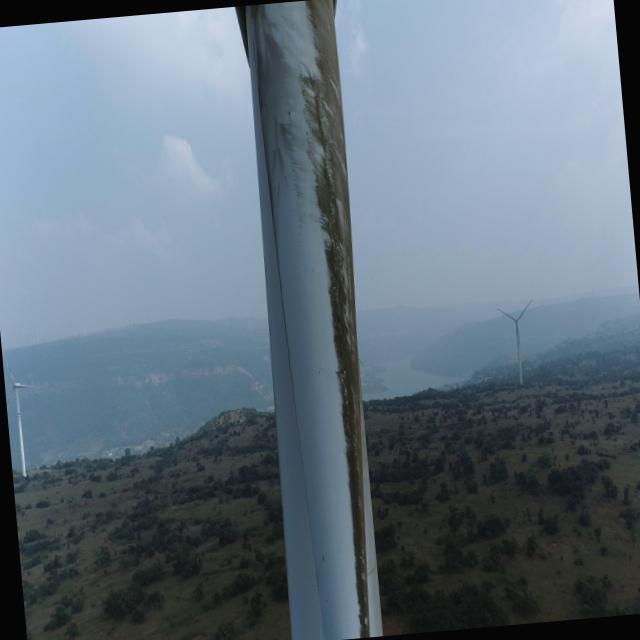Dirt: (255, 6, 379, 640)
